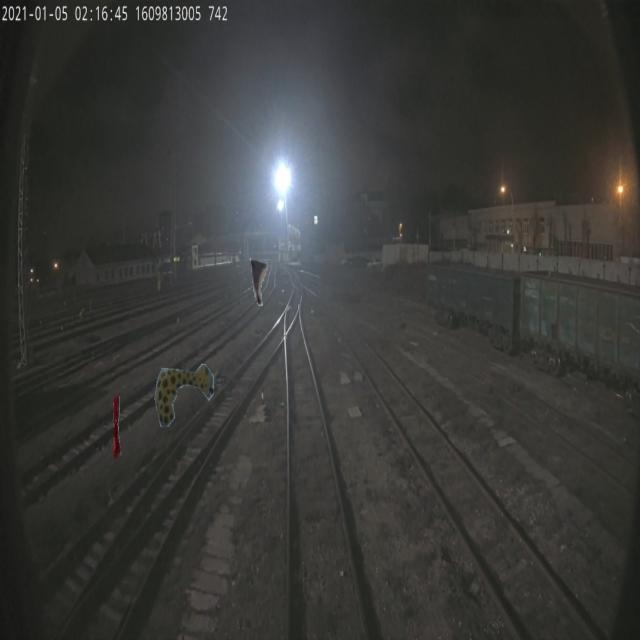floating object: (154, 362, 214, 427), (113, 394, 121, 458)
plastic bag: (249, 244, 267, 308)
